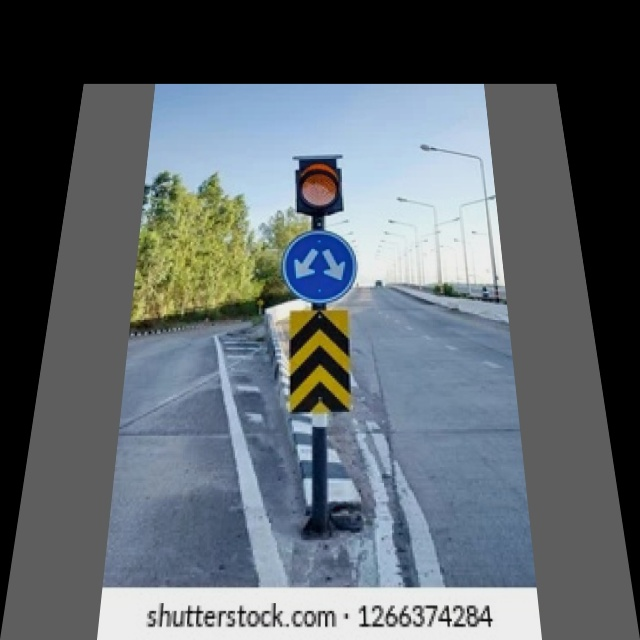Pass_Either_Side: (281, 229, 361, 303)
